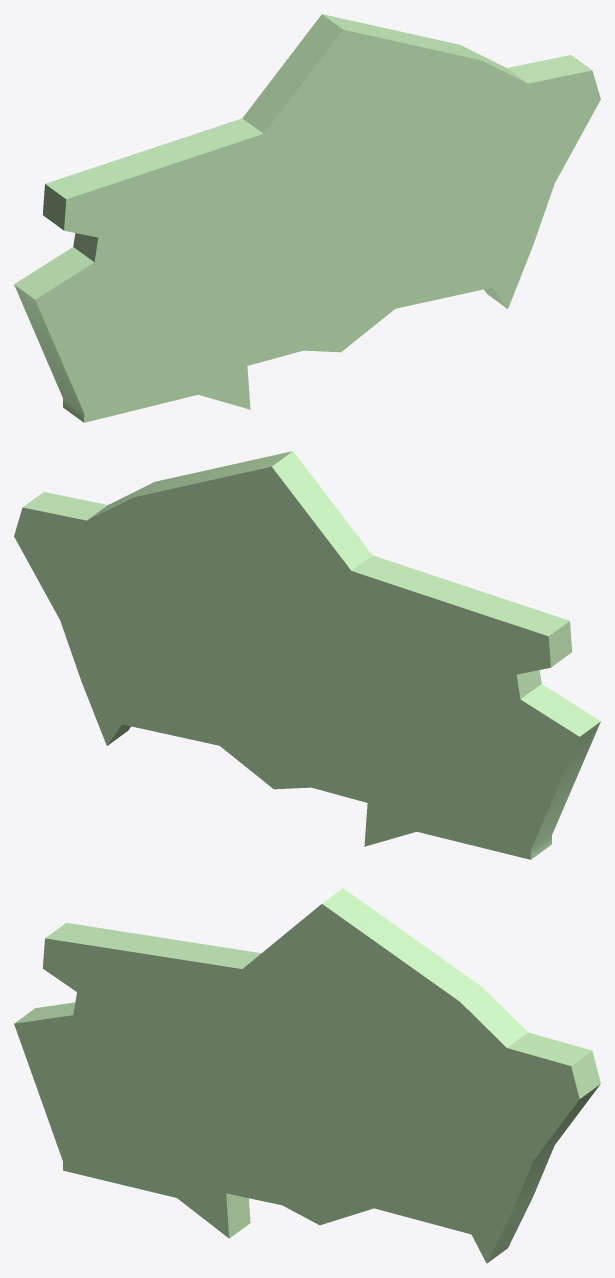
Rendered from otaez.fbx.
3 renders of one model, top to bottom at view 1: azimuth 30°, elevation 25°; view 2: azimuth 150°, elevation 25°; view 3: azimuth 330°, elevation 25°, orthographic.
Visible parts, largest first — view 1: otaez; view 2: otaez; view 3: otaez.
Part boxes in pixels (x1,y1,x2,y2): otaez: [14, 14, 600, 422]; otaez: [14, 451, 600, 859]; otaez: [14, 888, 600, 1263].
Size of the model in its own units: 123 by 74.17 by 8.
